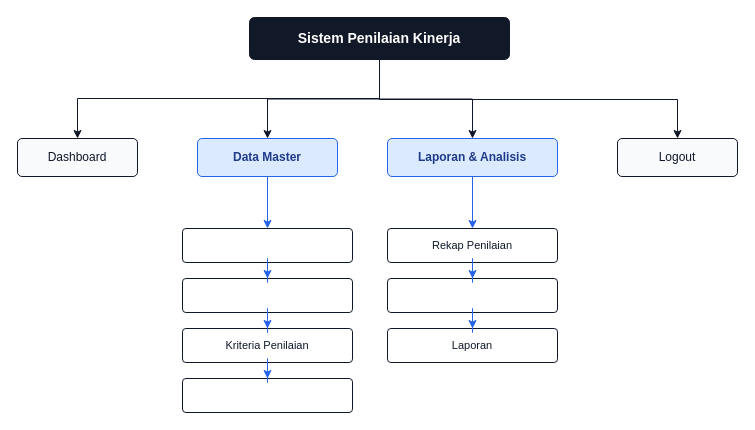
Image size: 755x430. Some labels were removed from this diagram. The shapes that lost their labels are listed below. From the top down, each one's box as (x1, y1, x2, y2) in pixels, then its label:
(182, 228, 352, 262): Data Karyawan
(182, 278, 352, 312): Atur Relasi Atasan
(386, 278, 558, 312): Analisa Kinerja
(182, 378, 352, 412): Periode Penilaian
